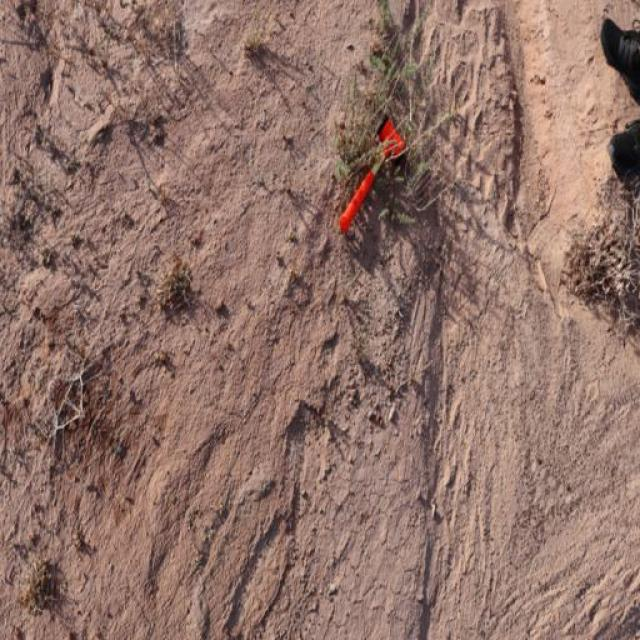mallet: (336, 115, 406, 234)
